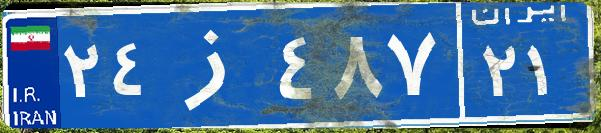1: (525, 38, 570, 115)
2: (57, 26, 110, 107), (475, 38, 525, 113)
4: (273, 28, 330, 110), (110, 28, 158, 105)
7: (385, 28, 445, 110)
8: (330, 28, 385, 110)
ز: (158, 15, 273, 115)
